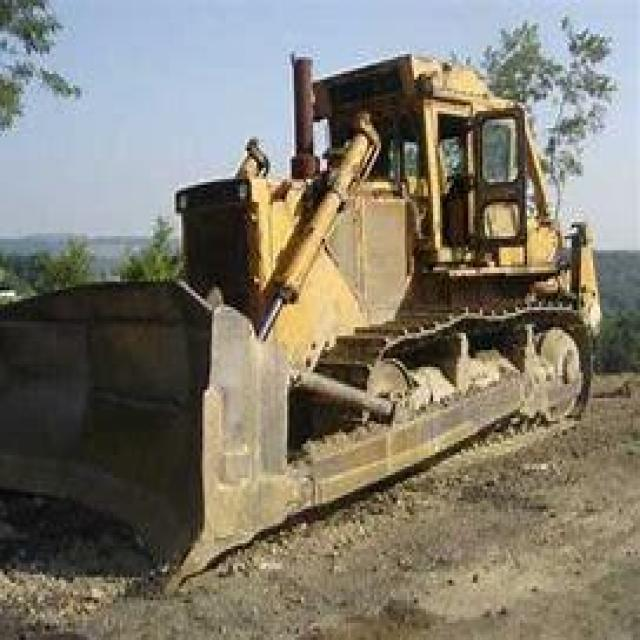Bulldozer: (4, 40, 612, 586)
